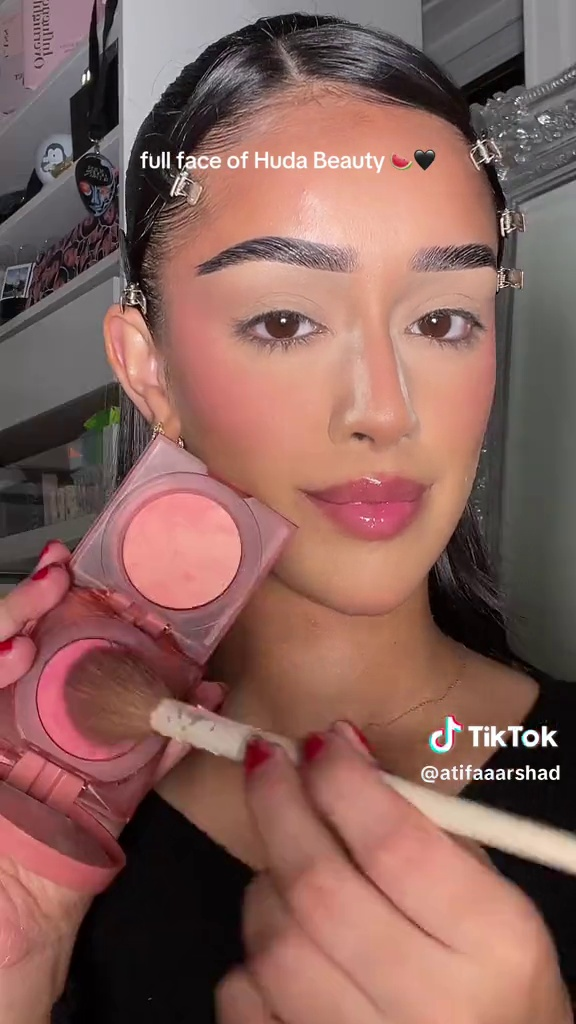train' :'yolo_data/train/images',: (1, 425, 301, 899), (56, 642, 575, 876)
